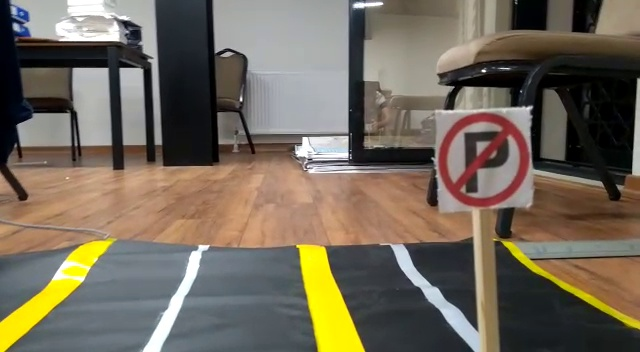park_yapilmaz: (433, 111, 534, 208)
